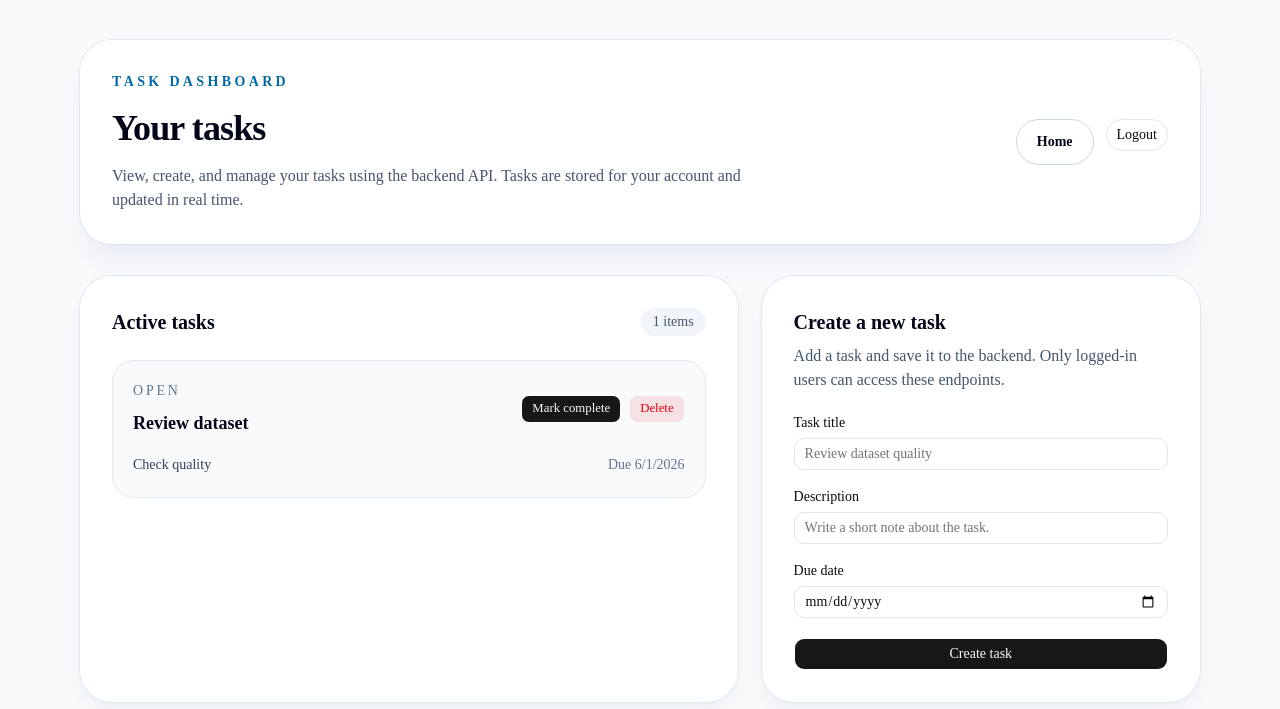
Test case: TasksPage › deletes a task when the Delete button is clicked
Click the button "Delete".
click(657, 409)  # box [629,395,685,423]
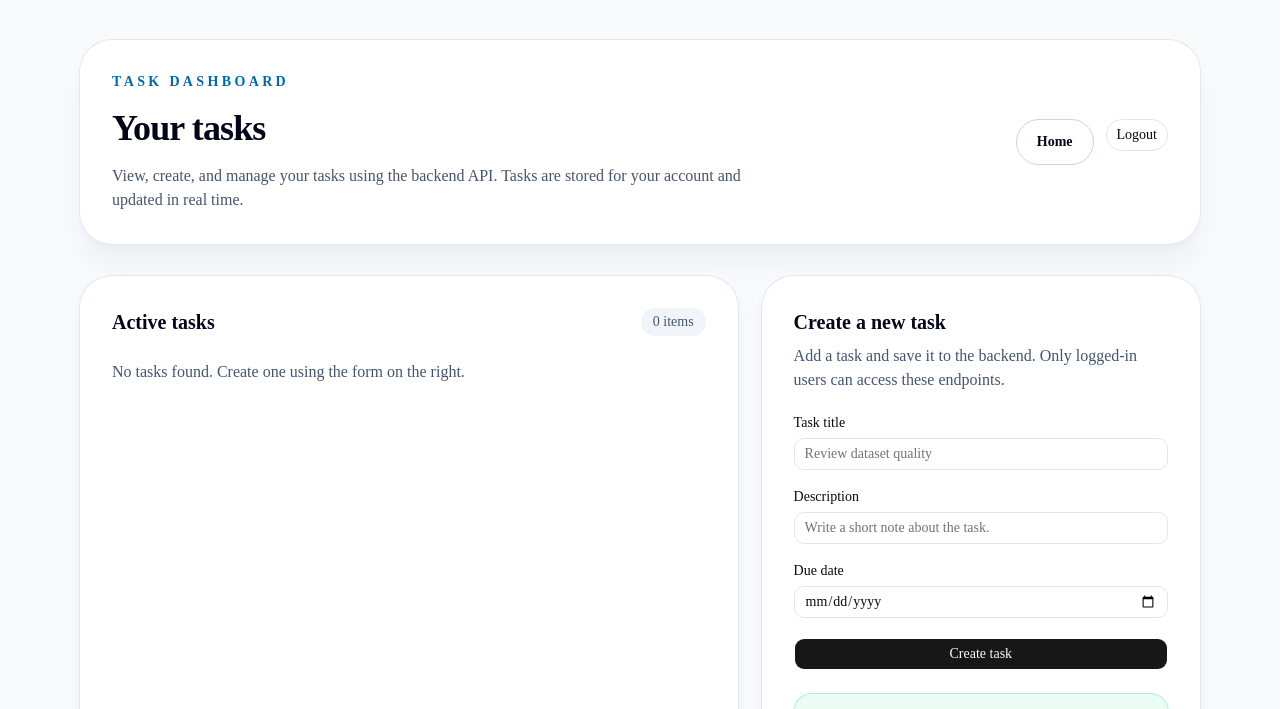
expect the text "Review dataset" is gone: met
